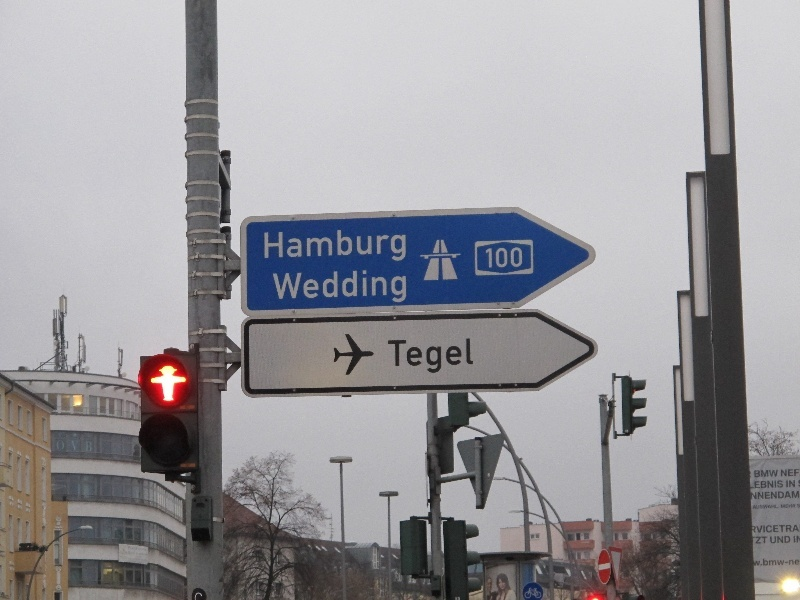text: (401, 337, 416, 374), (417, 337, 432, 374), (433, 337, 448, 374), (449, 337, 464, 374), (273, 269, 288, 305), (289, 269, 304, 305), (305, 269, 320, 305), (321, 269, 336, 305), (337, 269, 352, 305), (353, 269, 368, 305), (369, 269, 384, 305), (385, 269, 400, 305), (273, 230, 288, 264), (289, 230, 304, 264), (305, 230, 320, 264), (321, 230, 336, 264), (337, 230, 352, 264), (353, 230, 368, 264), (369, 230, 384, 264), (385, 230, 400, 264), (387, 337, 400, 374), (465, 337, 475, 374), (497, 247, 512, 270), (264, 230, 272, 264), (513, 247, 524, 270), (401, 269, 408, 305), (401, 230, 408, 264), (486, 247, 496, 270), (65, 440, 80, 453), (753, 490, 768, 501), (769, 490, 784, 501), (785, 490, 800, 501), (769, 480, 784, 490), (81, 440, 92, 453), (754, 480, 768, 490), (753, 525, 768, 534), (769, 525, 784, 534), (769, 535, 784, 544), (754, 470, 768, 479), (786, 479, 800, 488), (785, 525, 799, 534), (785, 469, 799, 477), (756, 536, 768, 545), (753, 560, 768, 567), (769, 560, 784, 567), (785, 560, 799, 567), (57, 440, 64, 453), (753, 504, 768, 510), (769, 470, 778, 479), (769, 504, 779, 510), (785, 504, 796, 509), (785, 535, 791, 544), (793, 536, 800, 543), (271, 269, 272, 305), (781, 469, 784, 477), (750, 490, 752, 501), (781, 504, 784, 509)
